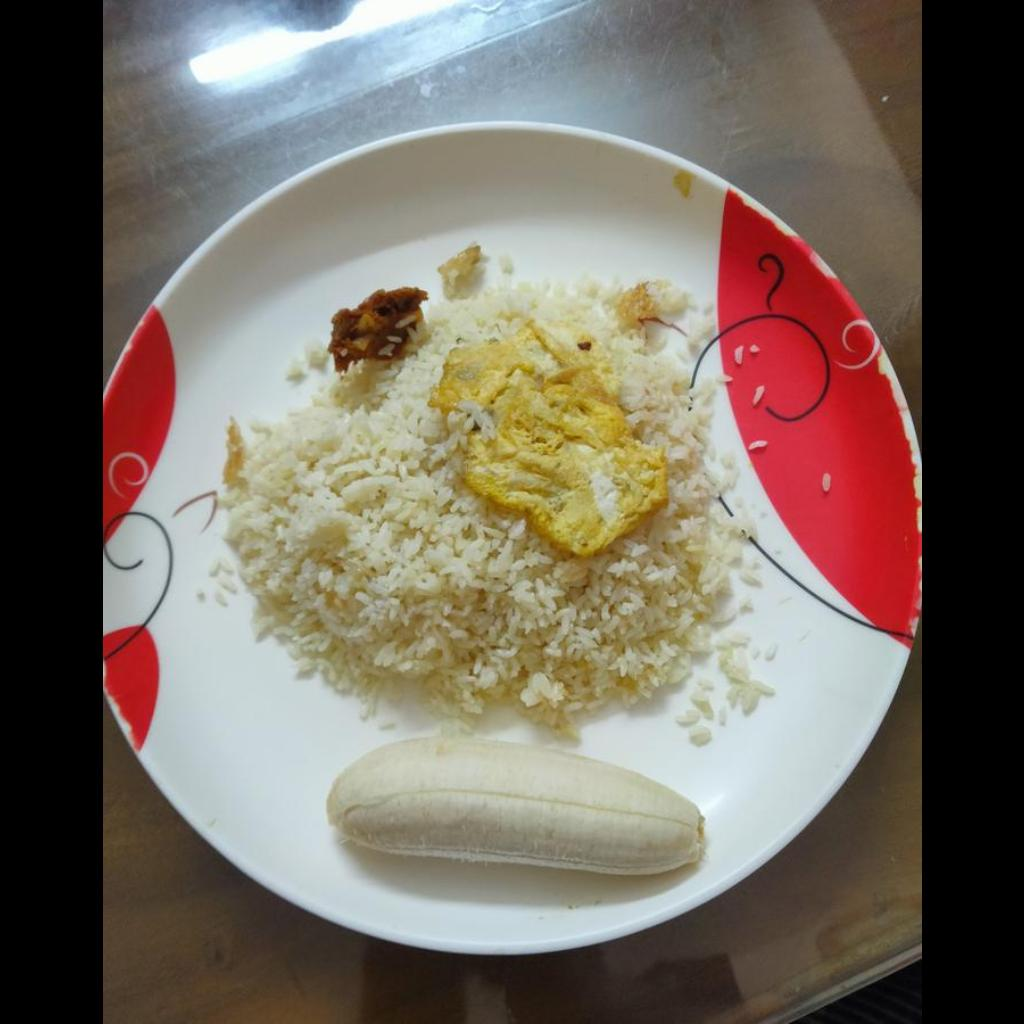achar: (327, 287, 426, 371)
banana: (317, 737, 703, 871)
egg-poached: (442, 319, 665, 569)
rice: (222, 287, 734, 710)
